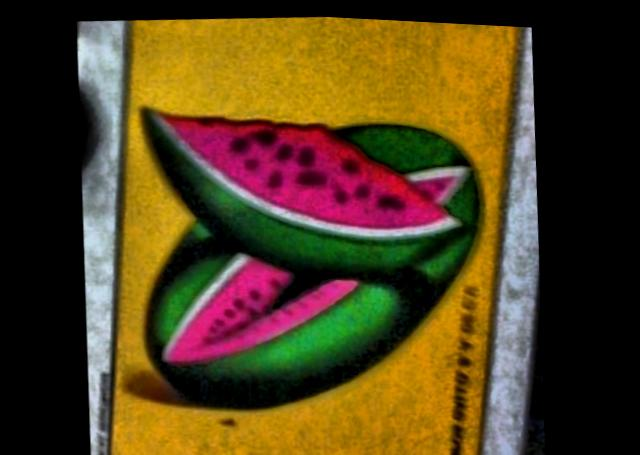La Sandia: (113, 13, 519, 455)
